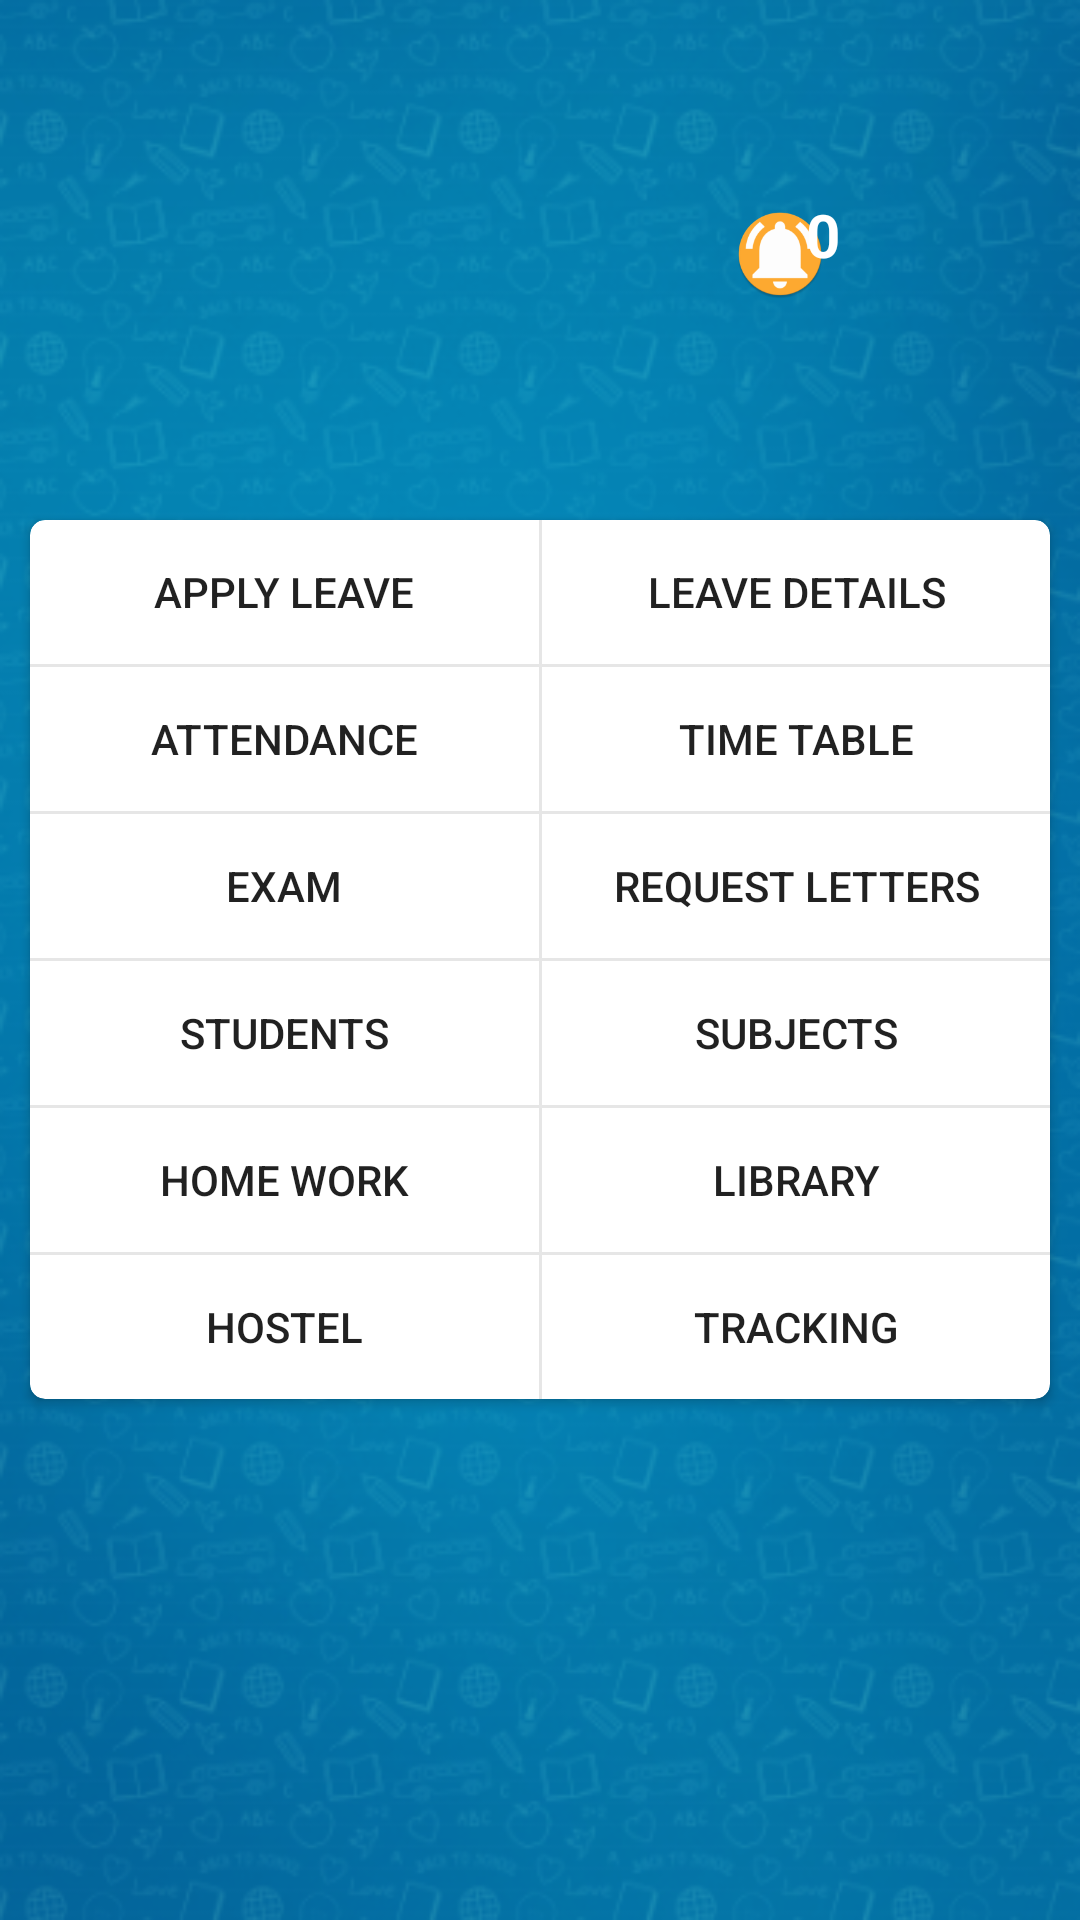

Named icons in this screenshot (1080*1920) and their bounding boxes, (x1, y1, x2, y2):
notification: (738, 212, 838, 297)
